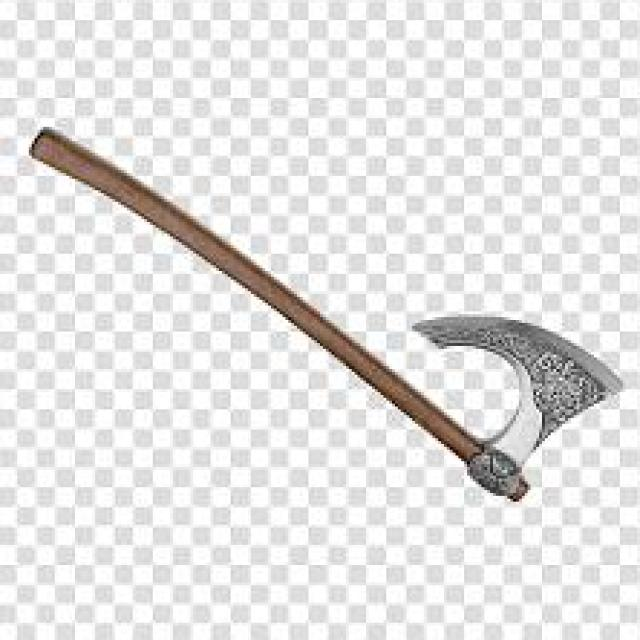Gun: (15, 102, 626, 506)
